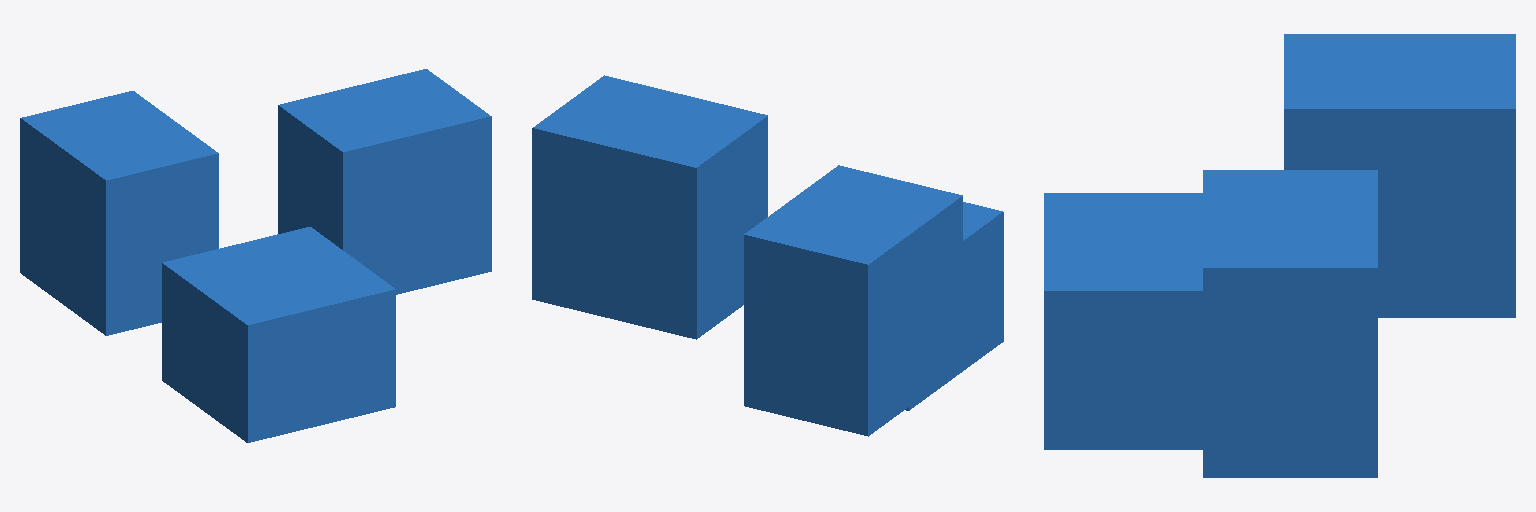
URDF robot description (hip_lateral_forward_envelope_proxy):
<?xml version='1.0' encoding='utf-8'?>
<robot name="hip_lateral_forward_envelope_proxy">
  <link name="world" />
  <link name="hip_0">
    <visual>
      <geometry>
        <box size="0.053 0.053 0.0402" />
      </geometry>
      <material name="m0">
        <color rgba="0.25 0.55 0.85 0.7" />
      </material>
    </visual>
  </link>
  <joint name="fixed_0" type="fixed">
    <parent link="world" />
    <child link="hip_0" />
    <origin xyz="0.0 0.055 0.17989999999999998" rpy="0 0 0" />
  </joint>
  <link name="hip_1">
    <visual>
      <geometry>
        <box size="0.0402 0.053 0.053" />
      </geometry>
      <material name="m1">
        <color rgba="0.25 0.55 0.85 0.7" />
      </material>
    </visual>
  </link>
  <joint name="fixed_1" type="fixed">
    <parent link="world" />
    <child link="hip_1" />
    <origin xyz="-0.0251 0.11 0.205" rpy="0 0 0" />
  </joint>
  <link name="hip_2">
    <visual>
      <geometry>
        <box size="0.053 0.0402 0.053" />
      </geometry>
      <material name="m2">
        <color rgba="0.25 0.55 0.85 0.7" />
      </material>
    </visual>
  </link>
  <joint name="fixed_2" type="fixed">
    <parent link="world" />
    <child link="hip_2" />
    <origin xyz="0.055 0.0849 0.205" rpy="0 0 0" />
  </joint>
</robot>

--- Facts derived from the render (not from the file) ---
The picture shows the robot from 3 angles, left to right: view 1: azimuth 30°, elevation 25°; view 2: azimuth 150°, elevation 25°; view 3: azimuth 270°, elevation 25°; orthographic projection.
Robot: hip_lateral_forward_envelope_proxy — 4 links, 3 joints (3 fixed); root link world; default pose: every joint at zero.
Visible links, largest first — view 1: hip_0, hip_2, hip_1; view 2: hip_2, hip_1, hip_0; view 3: hip_2, hip_1, hip_0.
Boxes of the visible links, x1,y1,x2,y2 form: hip_0: [162, 227, 395, 442]; hip_2: [278, 69, 491, 294]; hip_1: [20, 91, 218, 335]; hip_2: [532, 75, 767, 339]; hip_1: [744, 165, 962, 436]; hip_0: [905, 202, 1003, 410]; hip_2: [1203, 170, 1377, 477]; hip_1: [1284, 34, 1515, 317]; hip_0: [1044, 193, 1202, 449].
Size in the robot's own frame: 0.1267 by 0.108 by 0.0717 metres.
Geometry: primitives only (box / cylinder / sphere), no mesh files.
